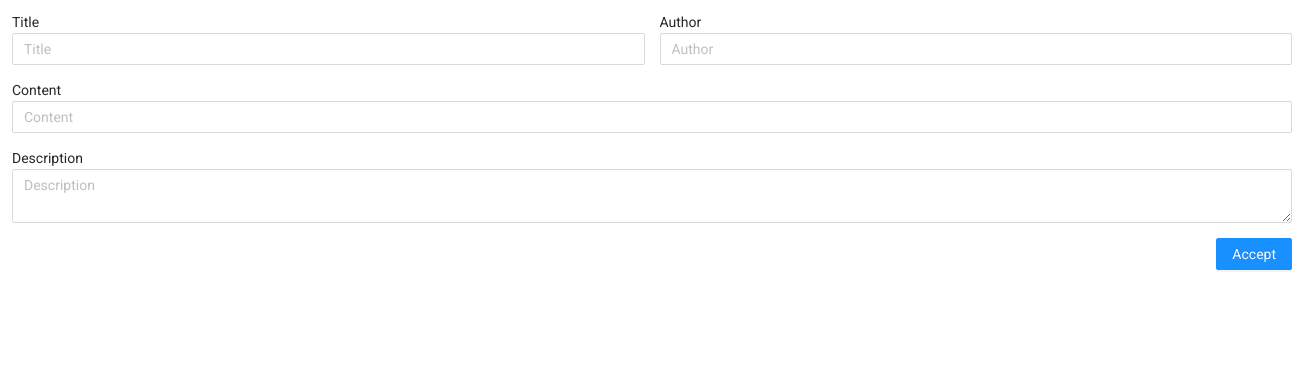
it: <ArticleForm /> submit validation › should not submit. Form is not valid
Click the button "Accept" at (1254, 254), box [1216,238,1292,270]
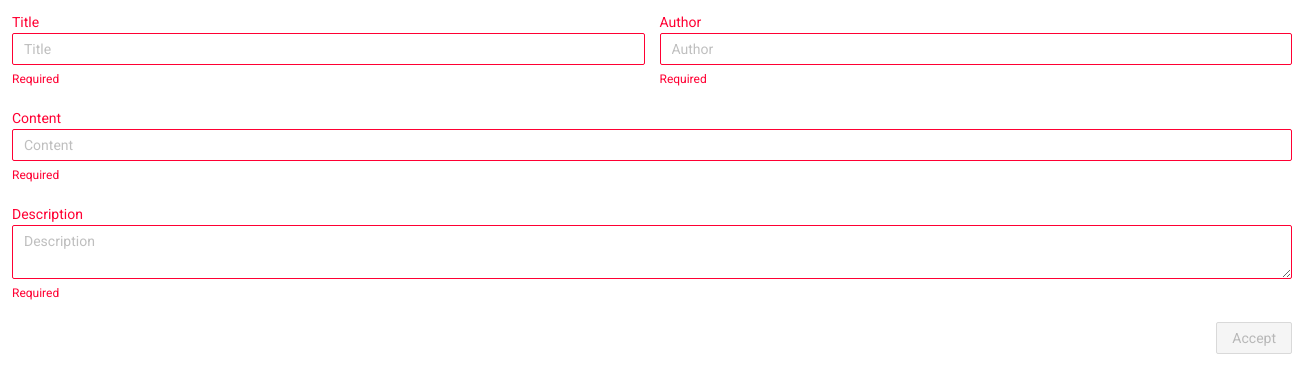
Now the text "Required" below "Description" is shown, box [12,286,59,300]
